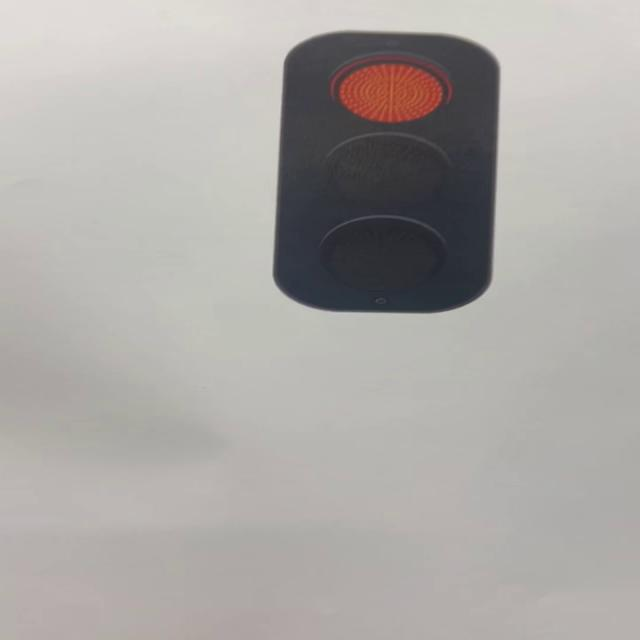red: (275, 30, 494, 319)
